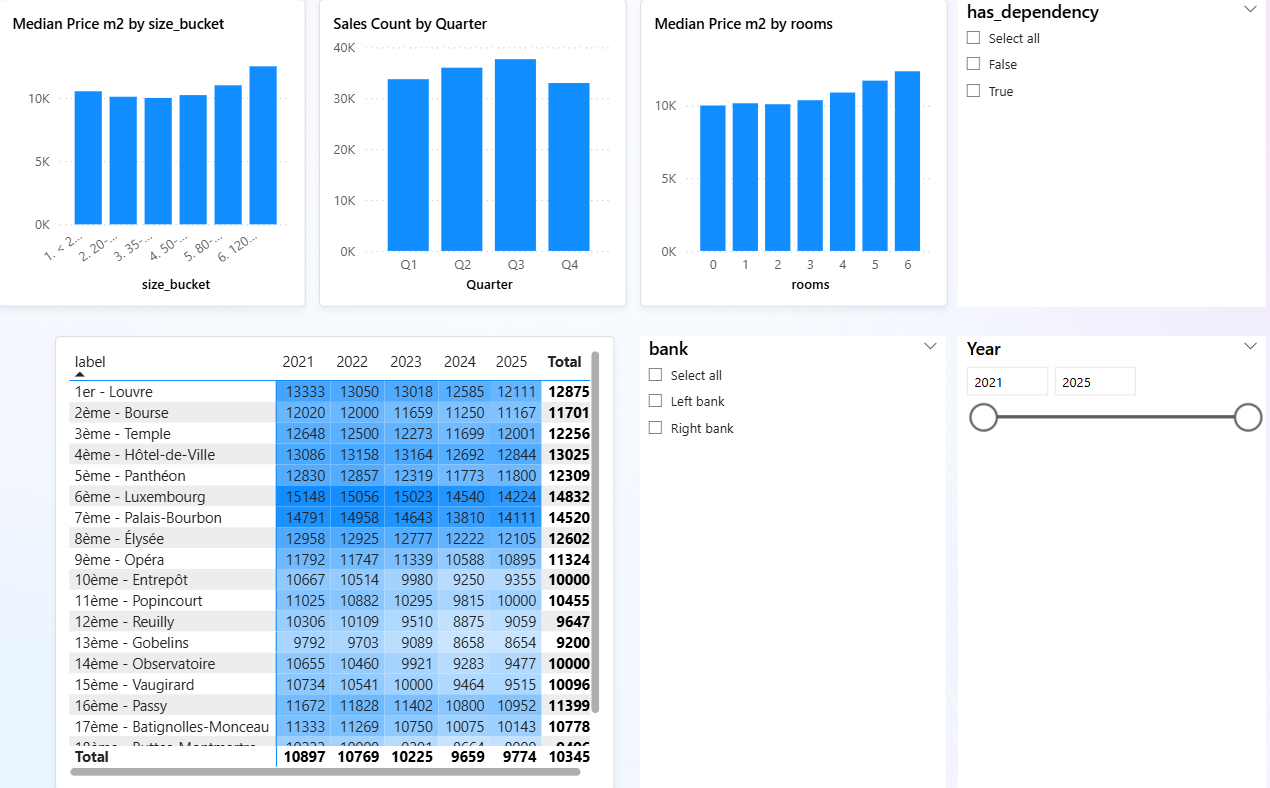

The page's visual inventory and layout, read from the dashboard file:
{"tool":"powerbi","page":{"name":"Deep dive","canvas":[1280,720],"ordinal":2},"visuals":[{"type":"clusteredColumnChart","fields":{"Y":["_Measures (2).Median Price m2"],"Category":["Sales.size_bucket"]},"box":[10,0,280,280],"z":0},{"type":"clusteredColumnChart","fields":{"Category":["Sales.rooms"],"Y":["_Measures (2).Median Price m2"]},"box":[594.1,0,280.2,280.2],"z":1000},{"type":"clusteredColumnChart","fields":{"Category":["Date.Quarter"],"Y":["_Measures (2).Sales Count"]},"box":[302,0,280.2,280.2],"z":2000},{"type":"pivotTable","fields":{"Rows":["Arrondissement.label"],"Columns":["Date.Year"],"Values":["_Measures (2).Median Price m2"]},"box":[61.9,306.6,508.5,413.9],"z":3000},{"type":"slicer","fields":{"Values":["Arrondissement.bank"]},"box":[594.1,306.6,278.4,413],"z":4000},{"type":"slicer","fields":{"Values":["Sales.has_dependency"]},"box":[883.4,0,280.2,280.2],"z":5000},{"type":"slicer","fields":{"Values":["Date.Year"]},"box":[883.4,306.6,280.2,413],"z":6000}]}

Visuals, with their boxes on the page's 1280x720 design canvas (x1, y1, x2, y2). These are canvas units, not pixel positions in the 1270x788 screenshot, which may show the page scaled, cropped or inside an application window:
clusteredColumnChart - _Measures (2).Median Price m2 x Sales.size_bucket: <bbox>10, 0, 290, 280</bbox>
clusteredColumnChart - Sales.rooms x _Measures (2).Median Price m2: <bbox>594, 0, 874, 280</bbox>
clusteredColumnChart - Date.Quarter x _Measures (2).Sales Count: <bbox>302, 0, 582, 280</bbox>
pivotTable - Arrondissement.label x Date.Year: <bbox>62, 307, 570, 720</bbox>
slicer - Arrondissement.bank: <bbox>594, 307, 872, 720</bbox>
slicer - Sales.has_dependency: <bbox>883, 0, 1164, 280</bbox>
slicer - Date.Year: <bbox>883, 307, 1164, 720</bbox>
